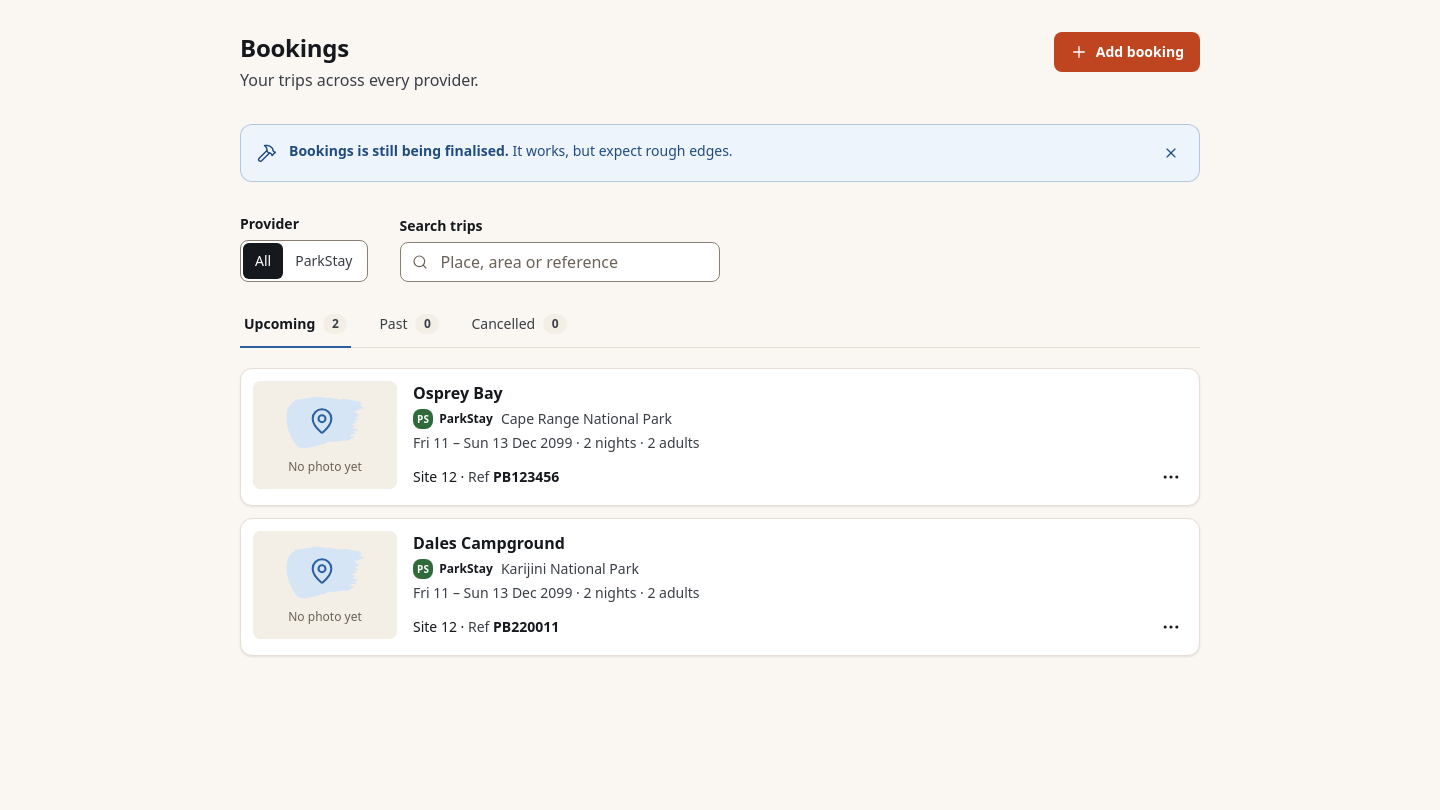
it: BookingsPage actions › removes a booking from its card menu after saying it is not cancelled at the provider
Click the button named "More actions for Dales Campground": {"x": 1171, "y": 627} [1155,611,1187,643]
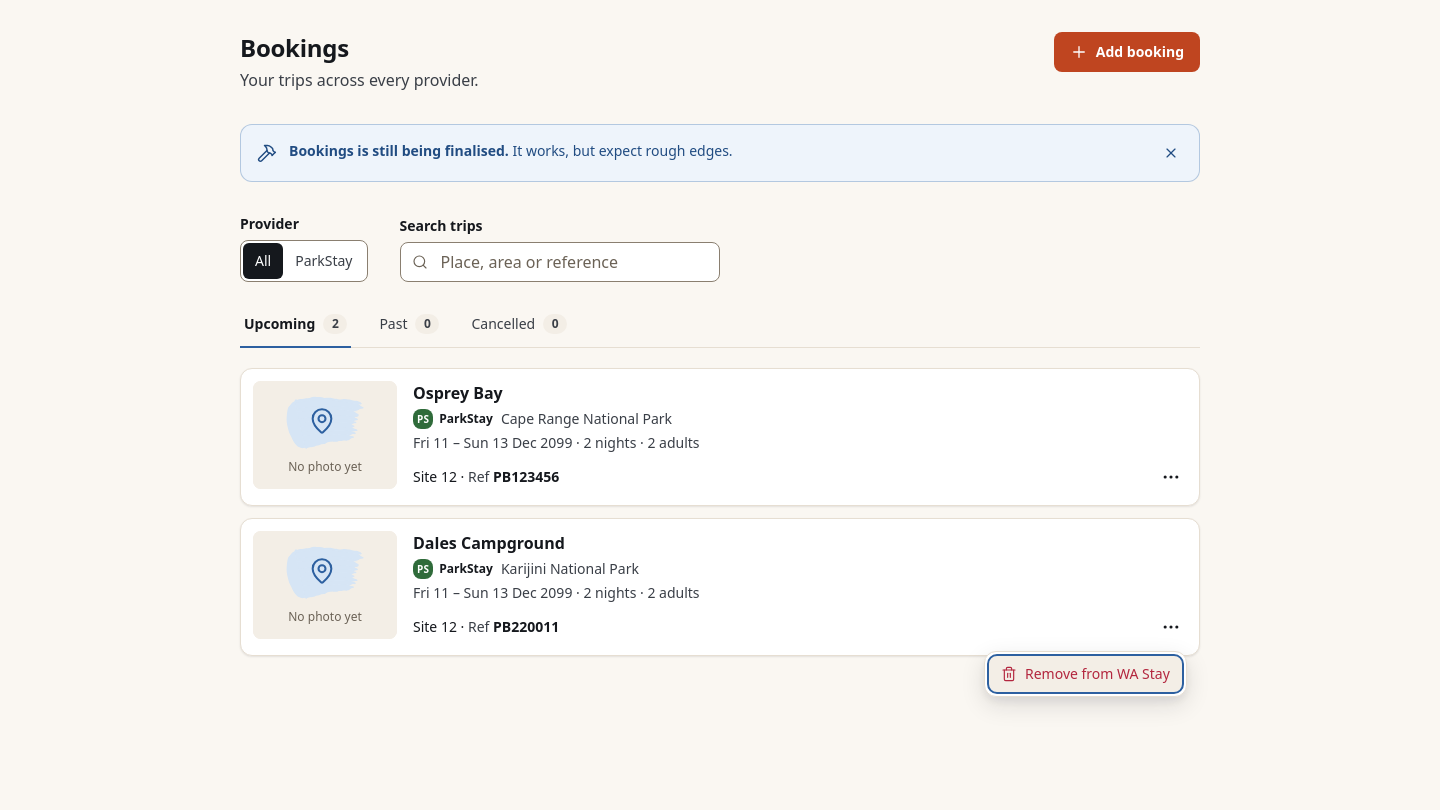
Click the menu item "Remove from WA Stay": {"x": 1085, "y": 674} [989,656,1182,692]
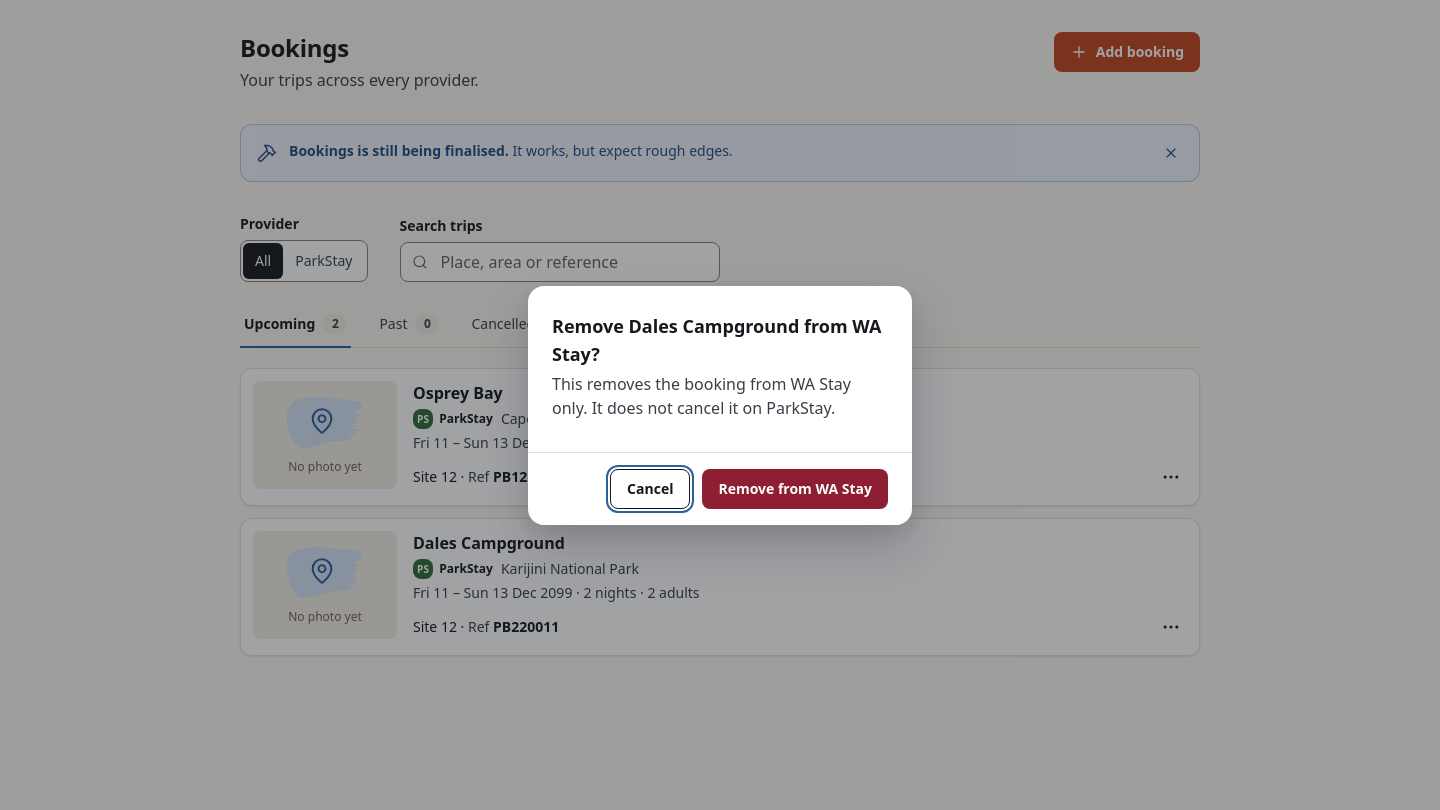
Click the button "Remove from WA Stay": {"x": 795, "y": 488} [702,468,888,508]
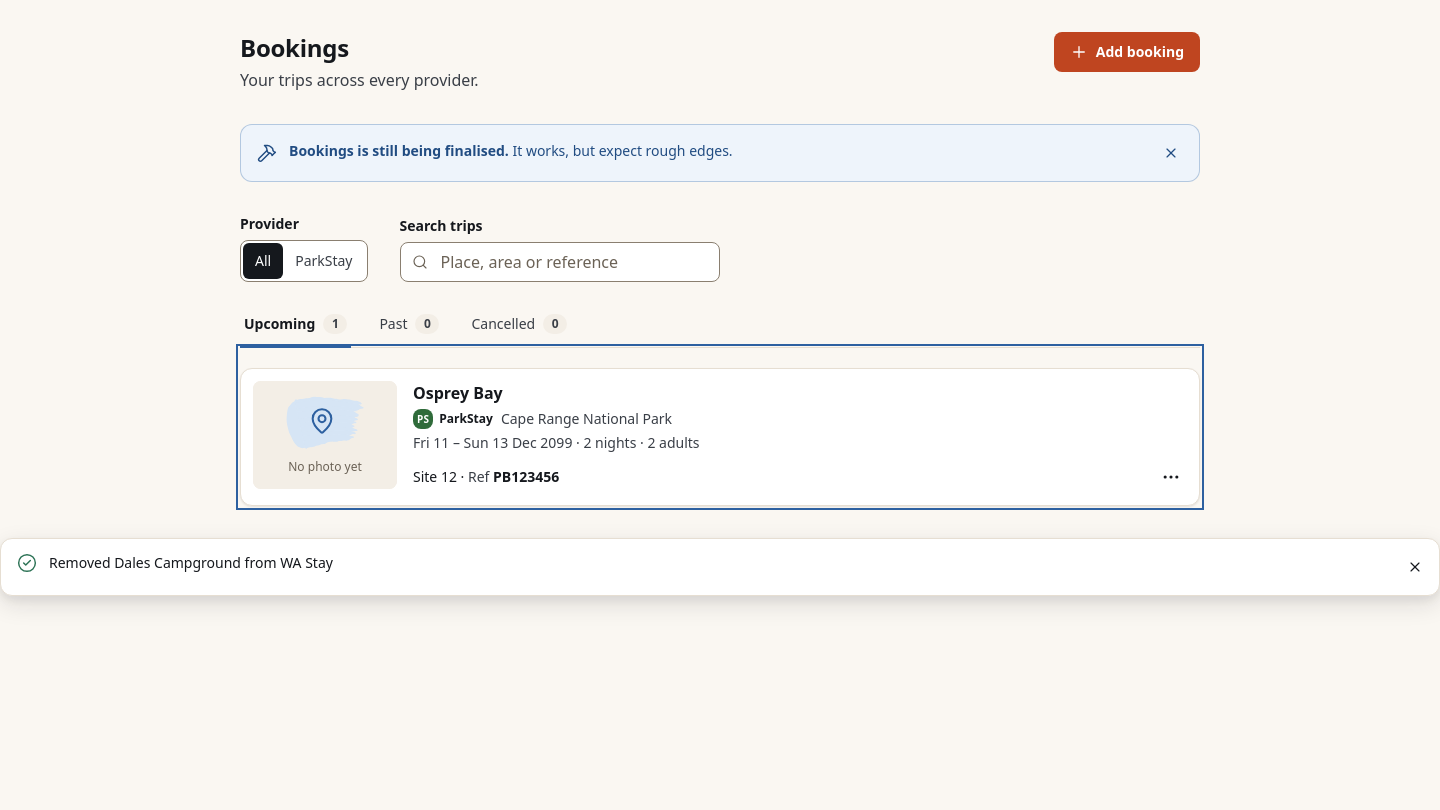
Expected: the element "Osprey Bay" is shown, [240,368,1200,506]
Result: the text "Removed Dales Campground from WA Stay" is shown at [49,553,333,572]
Result: the dialog is gone
